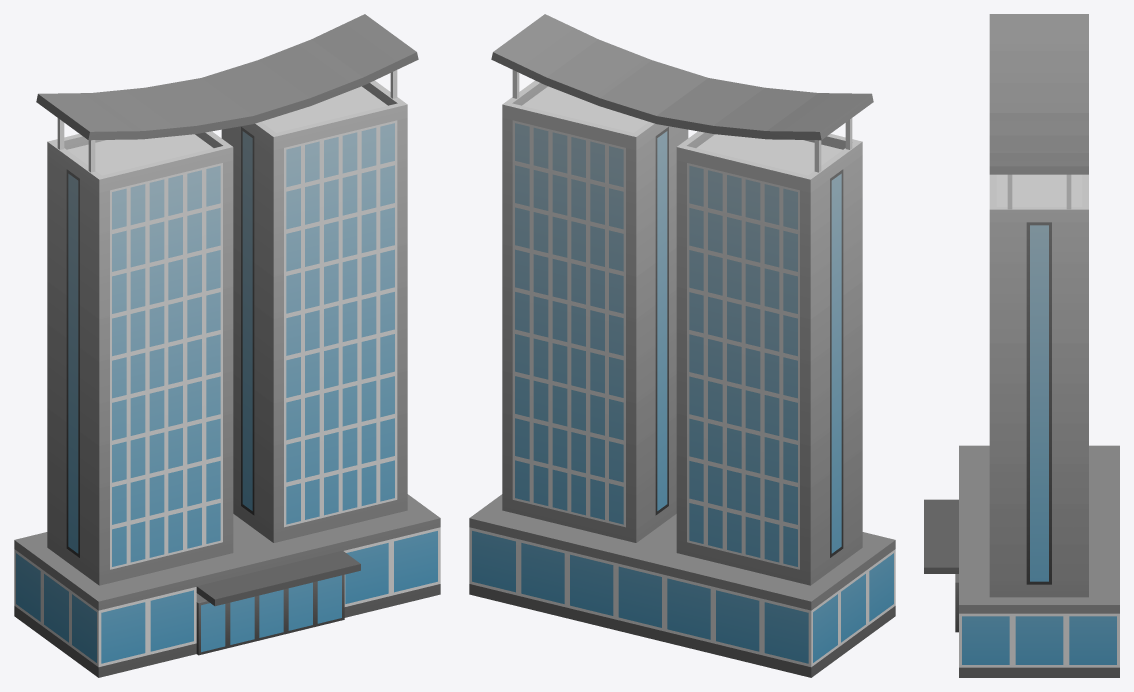
The model's file is building.fbx.
The picture shows the model from 3 angles, left to right: view 1: azimuth 30°, elevation 25°; view 2: azimuth 150°, elevation 25°; view 3: azimuth 270°, elevation 25°; orthographic projection. The views are drawn at different scales.
Visible parts, largest first — view 1: building; view 2: building; view 3: building.
Part boxes in pixels (x1,y1,x2,y2): building: [14, 14, 440, 677]; building: [469, 14, 895, 677]; building: [924, 14, 1119, 677].
Bounding box in the file's own units: 1721 × 2560 × 894.
